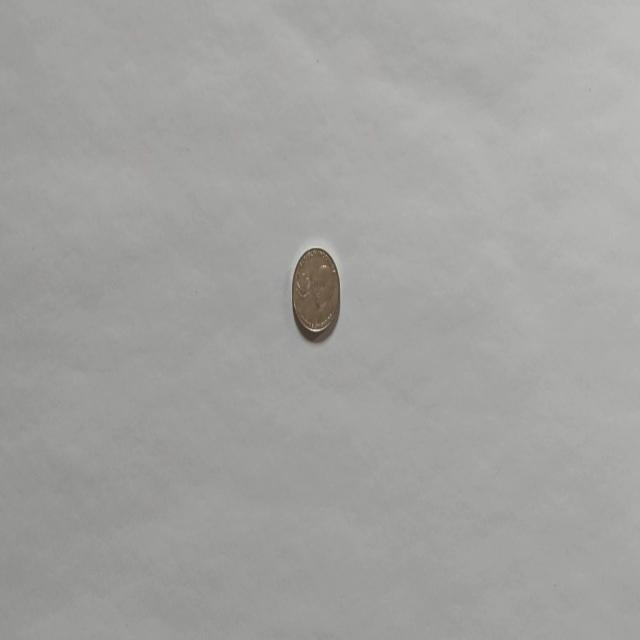lima ratus rupiah: (290, 245, 340, 339)
